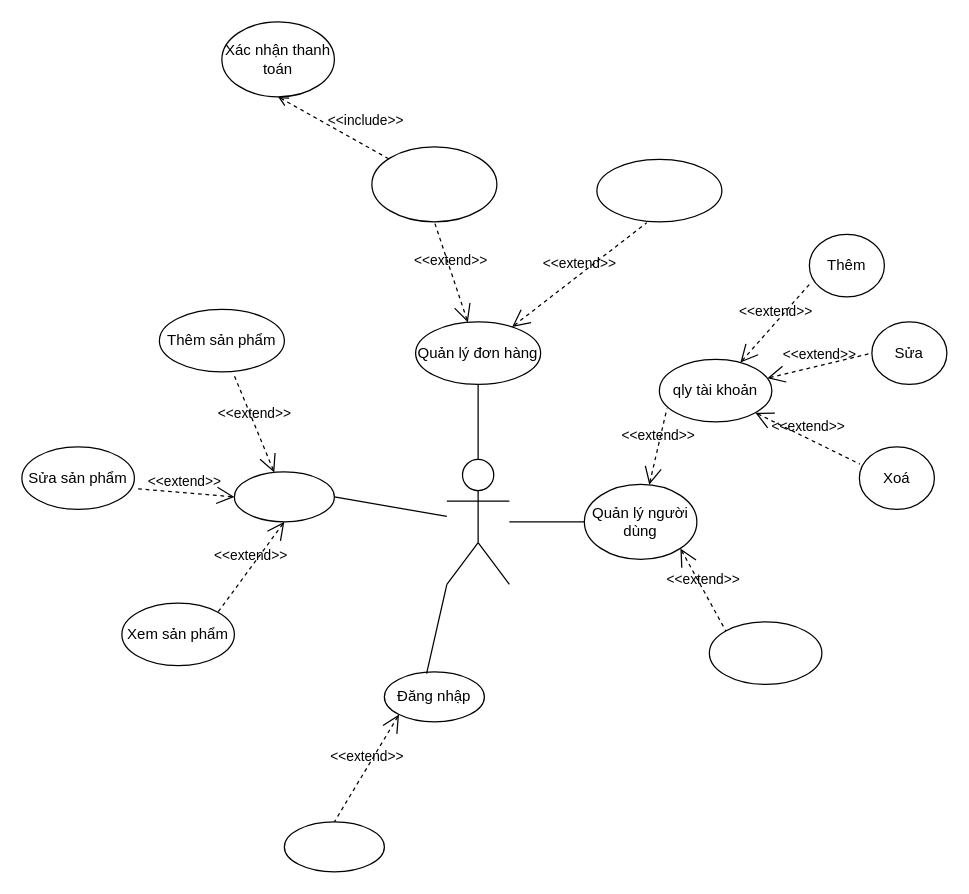
Image size: 969x894. Some labels were removed from this diagram. Here are the shapes that lost their labels. From the top down, the centre of each, then its label:
point (434, 184): Xác nhận đơn hàng
point (659, 190): xem đơn hàng
point (283, 496): Quản lý sản phẩm
point (477, 521): Người bán
point (765, 652): qly nhóm tài khoản
point (333, 846): Quên tài khoản
